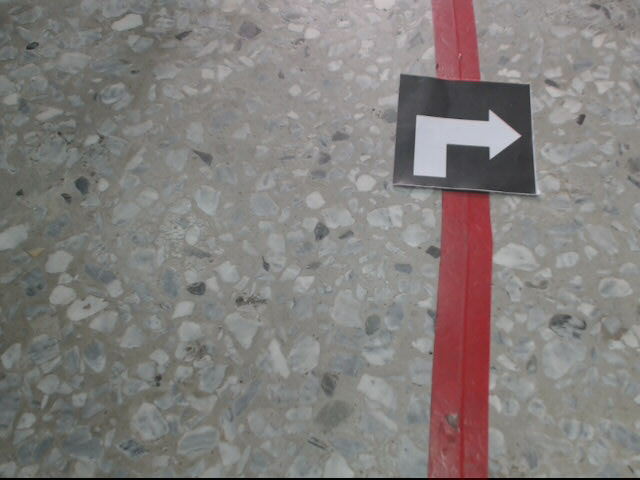right: (392, 70, 536, 195)
